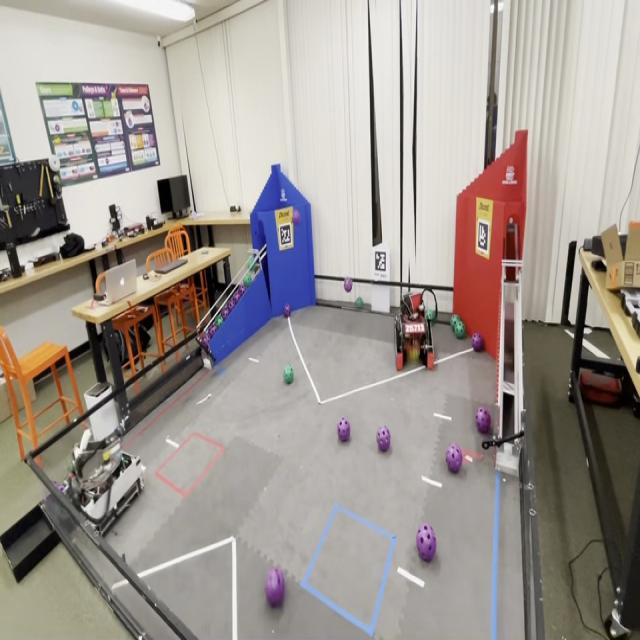artifact_green: (454, 320, 465, 338), (453, 319, 464, 333), (284, 366, 293, 383), (450, 315, 460, 330), (247, 256, 256, 270), (426, 309, 435, 321), (215, 315, 223, 328), (243, 274, 251, 287), (356, 297, 363, 309), (67, 460, 73, 472), (456, 319, 465, 325)
artifact_purple: (416, 523, 436, 561), (265, 568, 285, 606), (446, 444, 462, 472), (476, 407, 491, 433), (377, 427, 391, 453), (337, 418, 350, 442), (472, 332, 483, 351), (207, 324, 216, 341), (200, 332, 209, 348), (221, 306, 231, 320), (232, 290, 241, 304), (293, 210, 300, 226), (284, 303, 292, 317), (344, 278, 352, 292), (237, 284, 245, 297), (228, 297, 235, 311), (54, 482, 64, 491)
